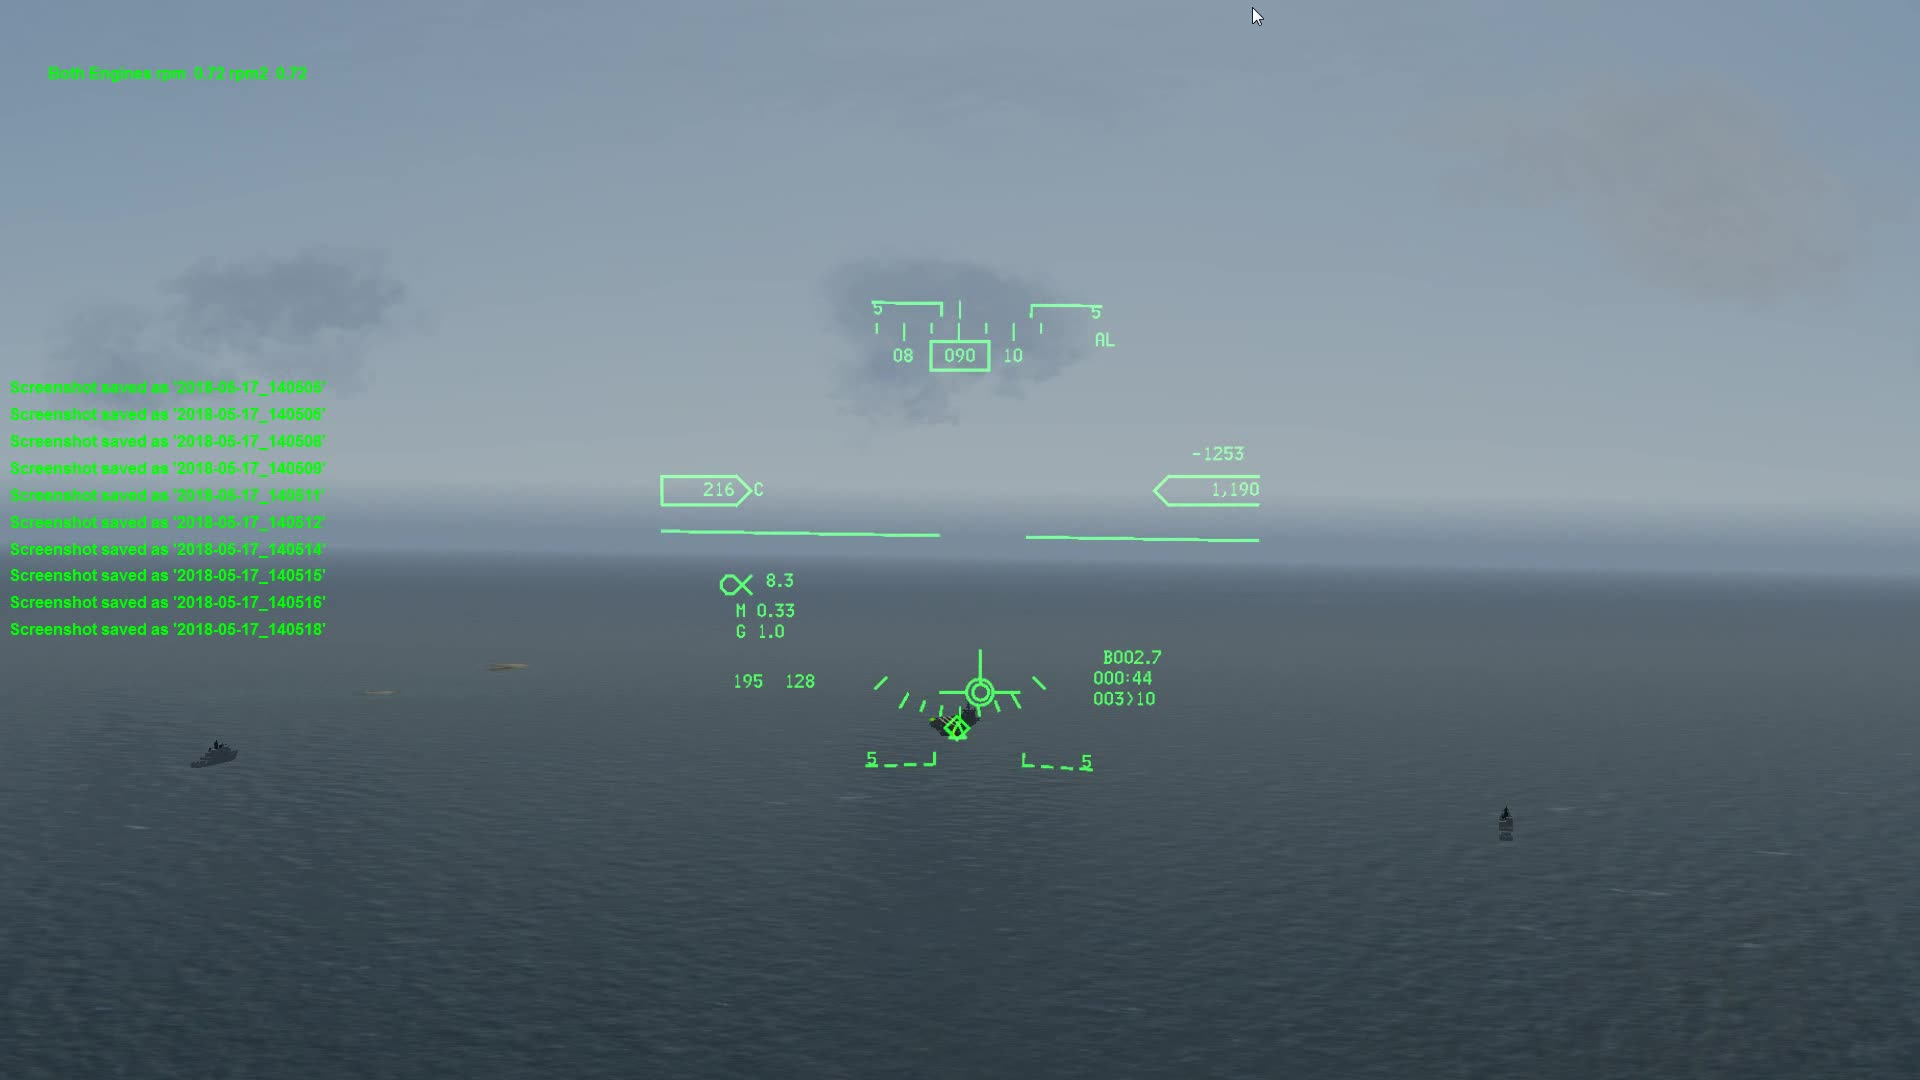speed vector: (928, 662, 1033, 712)
